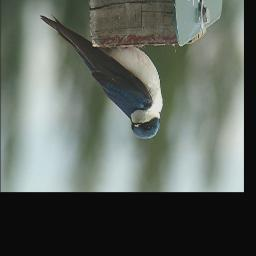Swallow: (39, 13, 163, 140)
